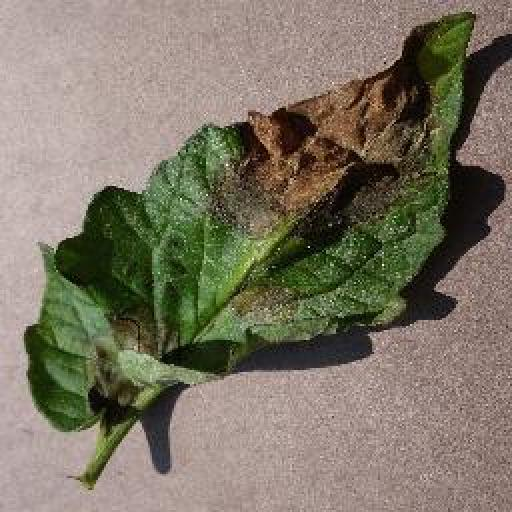Late Blight: (23, 10, 477, 434)
